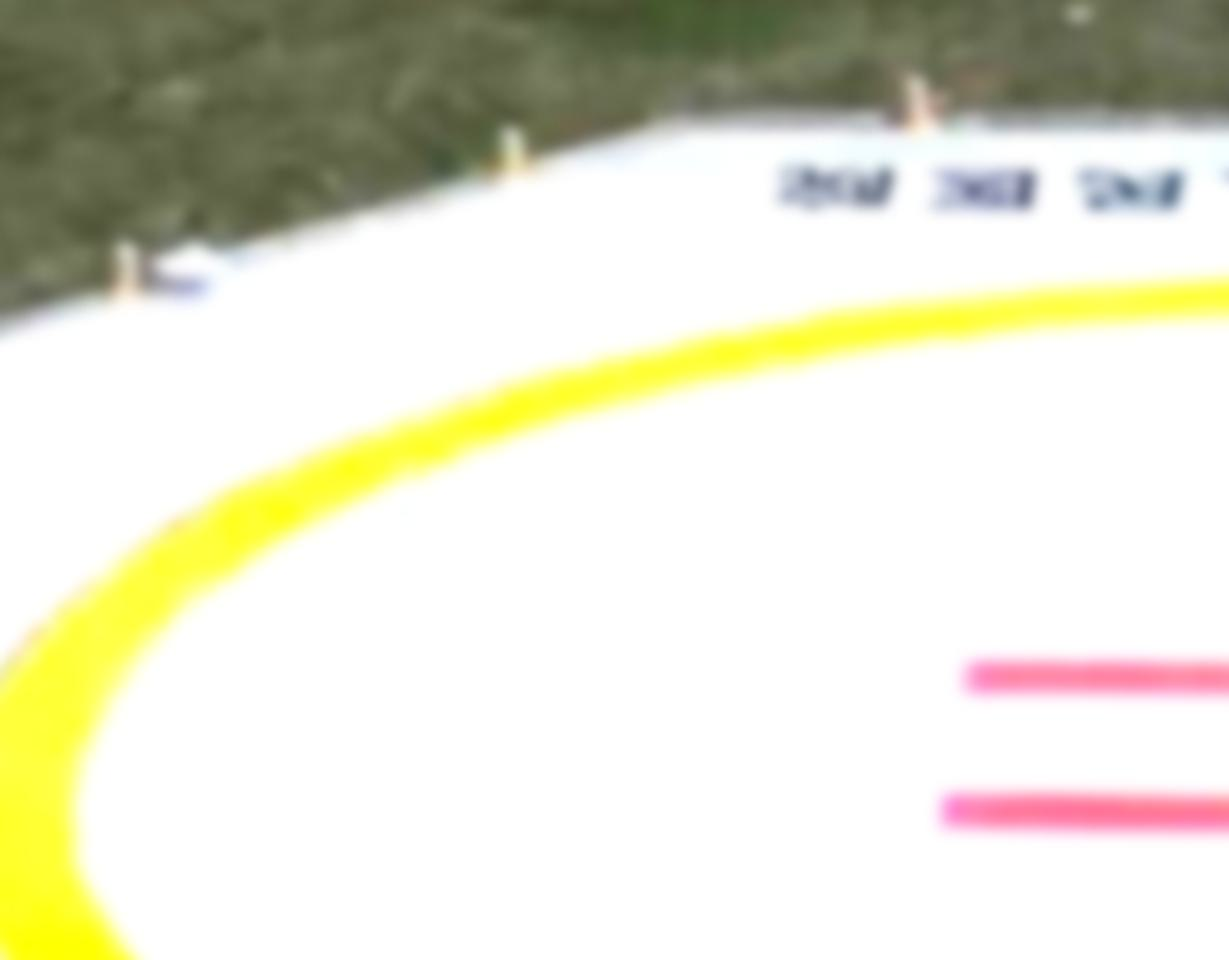Apron: (9, 244, 1229, 944)
